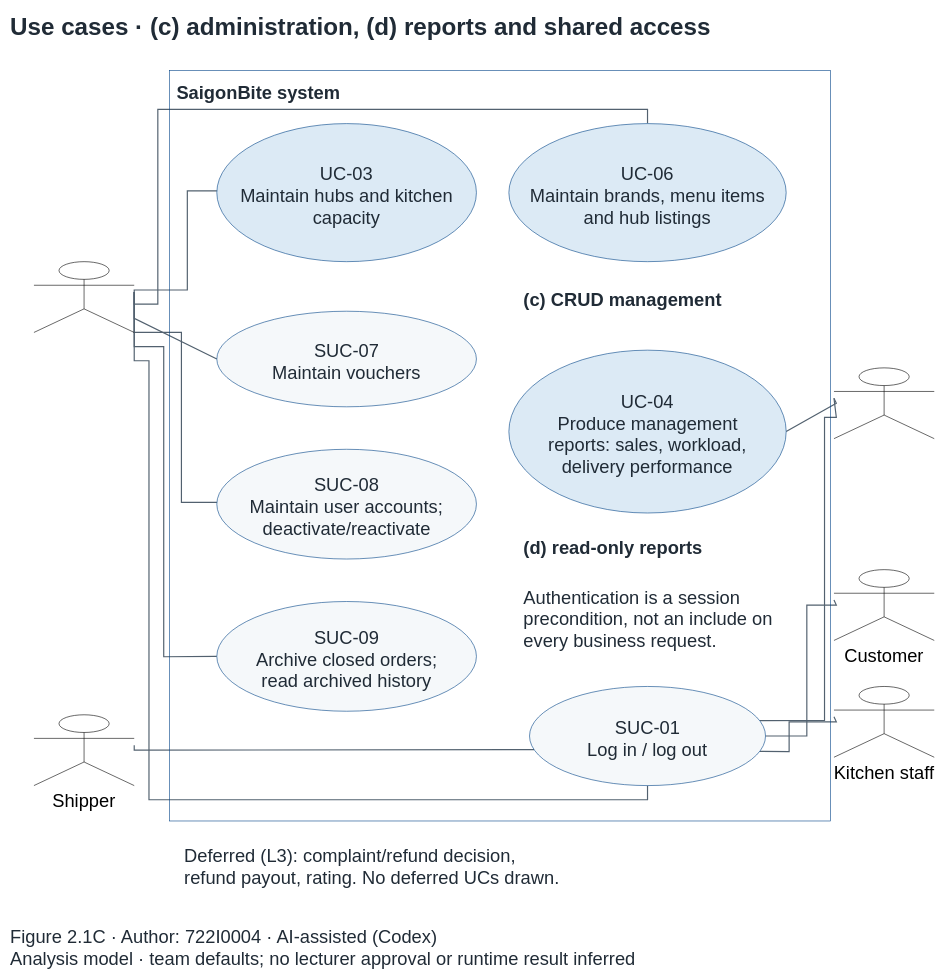
Image size: 945x980. Some labels were removed from this diagram. The box of each missing label's shape, as (x1, y1, x2, y2) in pixels:
Admin: (33, 261, 134, 332)
Manager: (833, 367, 934, 439)
